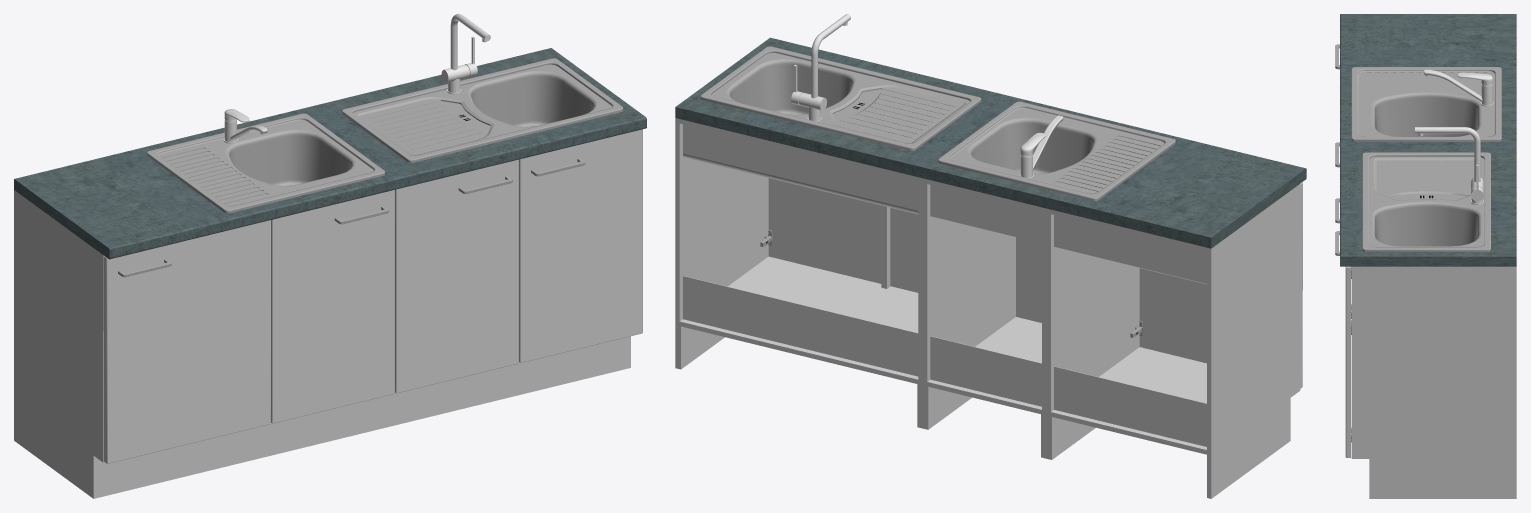
The model's file is SPUD.gltf.
The picture shows the model from 3 angles, left to right: view 1: azimuth 30°, elevation 25°; view 2: azimuth 150°, elevation 25°; view 3: azimuth 270°, elevation 25°; orthographic projection. The views are drawn at different scales.
Parts seen in each view (by area): view 1: front_Tür_600x720002, worktop_Arbeitsplatte, front_Tür_450x720, front_Tür_450x720_rechts001, front_Tür_450x720_links001, body.SPUD60_0, front_Sockel_Front (×3), Cube.005_0, Spüle_einzeln_Edelstahl, body_Sockel_Side_right, Einhebelmischer_Brause, Circle.002_0; view 2: body.SPUD60_0, body.SPUD90_0, worktop_Arbeitsplatte, body.SPUD45_0, Cube.005_0, Spüle_einzeln_Edelstahl, front_Tür_450x720_rechts001, body_Sockel_Side_right (×3), front_Tür_600x720002, front_Tür_450x720_links001, front_Tür_450x720, Einhebelmischer_Brause (+4 smaller); view 3: body.SPUD90_0, worktop_Arbeitsplatte, Cube.005_0, Spüle_einzeln_Edelstahl, body_Sockel_Side_right, front_Tür_450x720_rechts001, Einhebelmischer_Brause, Circle.002_0.
Boxes of the visible parts, <box> form: front_Tür_600x720002: <box>103,220,270,463</box>; worktop_Arbeitsplatte: <box>14,48,646,259</box>; front_Tür_450x720: <box>271,190,394,423</box>; front_Tür_450x720_rechts001: <box>519,129,642,362</box>; front_Tür_450x720_links001: <box>395,159,518,393</box>; body.SPUD60_0: <box>14,190,104,462</box>; front_Sockel_Front (×3): <box>92,336,630,498</box>; Cube.005_0: <box>342,58,623,162</box>; Spüle_einzeln_Edelstahl: <box>147,113,384,213</box>; body_Sockel_Side_right: <box>14,397,91,497</box>; Einhebelmischer_Brause: <box>441,14,490,94</box>; Circle.002_0: <box>223,109,267,143</box>; body.SPUD60_0: <box>1046,184,1300,455</box>; body.SPUD90_0: <box>675,118,922,385</box>; worktop_Arbeitsplatte: <box>675,37,1306,248</box>; body.SPUD45_0: <box>922,178,1046,415</box>; Cube.005_0: <box>700,46,981,150</box>; Spüle_einzeln_Edelstahl: <box>938,101,1175,201</box>; front_Tür_450x720_rechts001: <box>768,178,881,283</box>; body_Sockel_Side_right (×3): <box>675,325,1288,498</box>; front_Tür_600x720002: <box>1139,182,1302,388</box>; front_Tür_450x720_links001: <box>890,208,918,292</box>; front_Tür_450x720: <box>1016,237,1041,322</box>; Einhebelmischer_Brause: <box>791,14,850,121</box>; body.SPUD90_0: <box>1351,266,1516,458</box>; worktop_Arbeitsplatte: <box>1340,14,1516,266</box>; Cube.005_0: <box>1362,152,1490,251</box>; Spüle_einzeln_Edelstahl: <box>1351,67,1501,141</box>; body_Sockel_Side_right: <box>1372,459,1516,498</box>; front_Tür_450x720_rechts001: <box>1345,266,1350,457</box>; Einhebelmischer_Brause: <box>1415,127,1483,204</box>; Circle.002_0: <box>1423,69,1493,106</box>.
Size of what is drawn, in the model's own units: 1.95 by 1.19 by 0.6155.
Materials: 16 (1 with a texture image).
